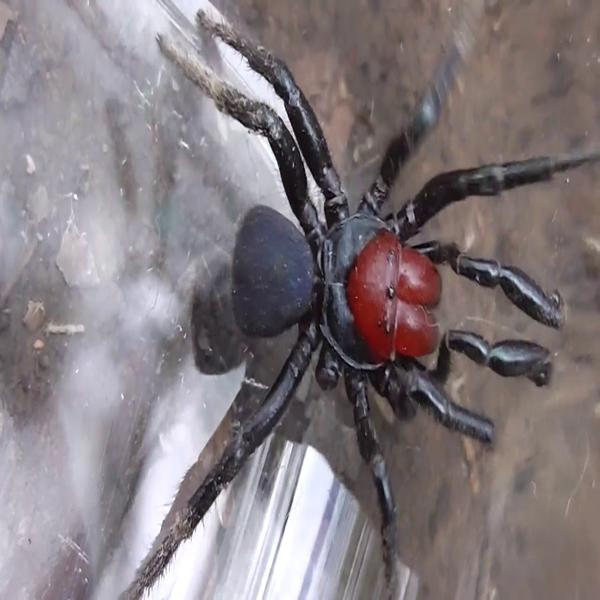Red Headed Mouse Spider: (149, 17, 559, 570)
